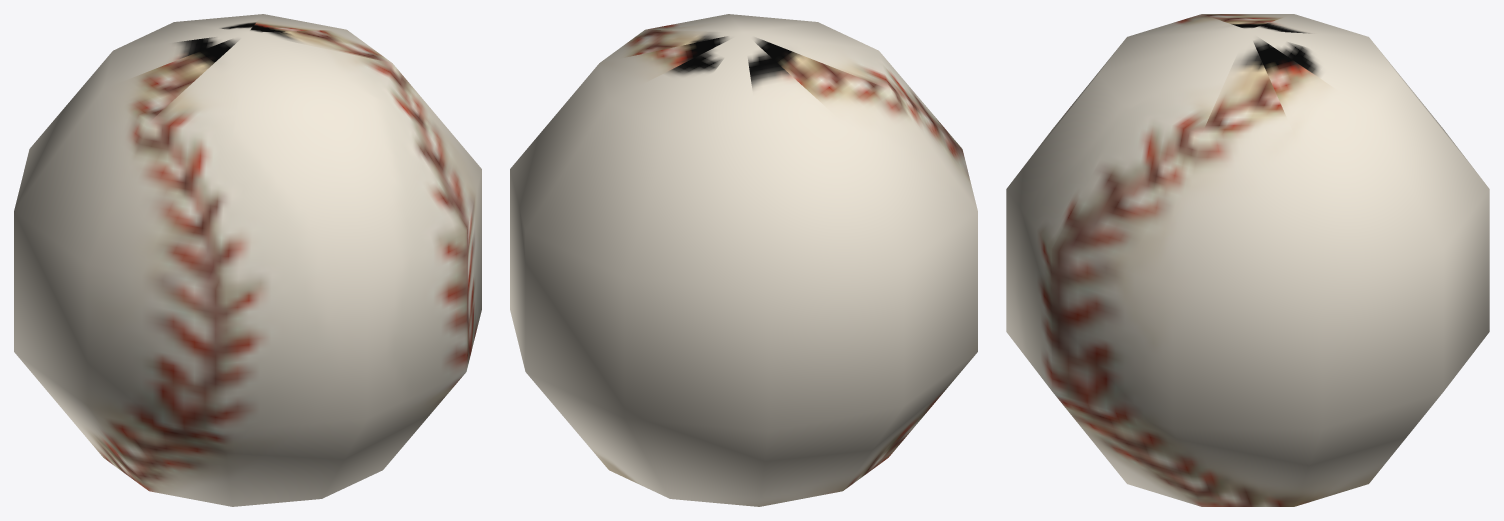
The model's file is ball.FBX.
3 views of the same model, side by side, from view 1: azimuth 30°, elevation 25°; view 2: azimuth 150°, elevation 25°; view 3: azimuth 270°, elevation 25° (orthographic).
Visible parts, largest first — view 1: Sphere01; view 2: Sphere01; view 3: Sphere01.
Part boxes in pixels (x1,y1,x2,y2): Sphere01: [14, 14, 481, 506]; Sphere01: [510, 14, 977, 506]; Sphere01: [1006, 14, 1489, 506].
Bounding box in the file's own units: 0.0459 × 0.0508 × 0.0483.
